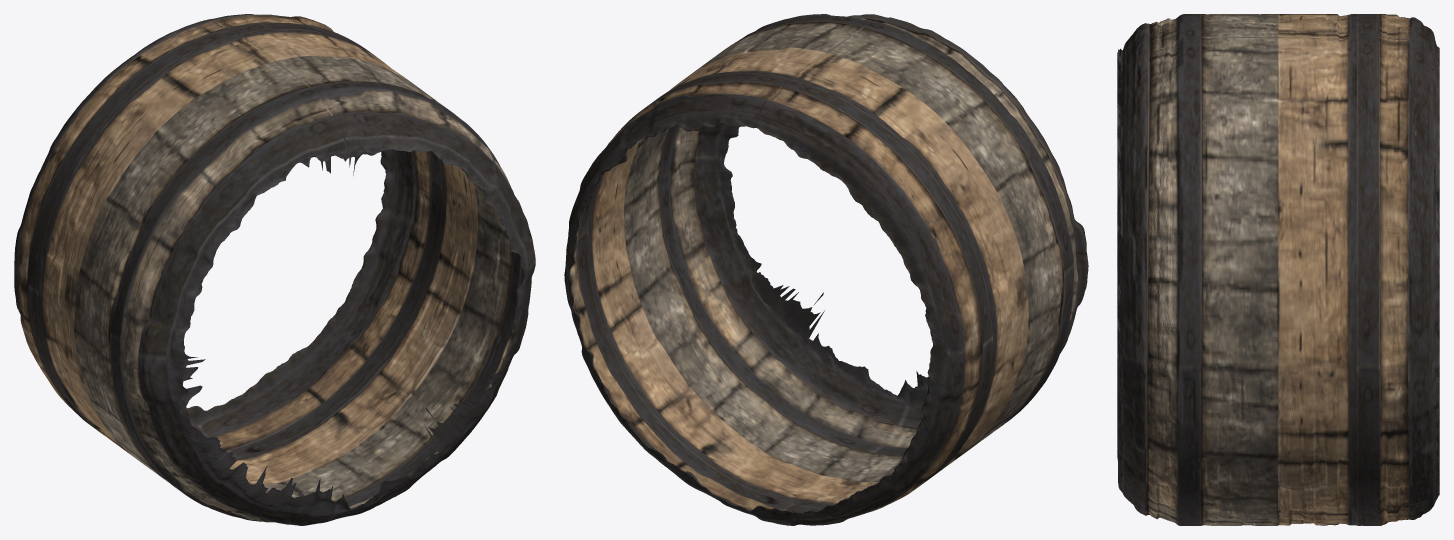
The picture shows the model from 3 angles, left to right: view 1: azimuth 30°, elevation 25°; view 2: azimuth 150°, elevation 25°; view 3: azimuth 270°, elevation 25°; orthographic projection. The views are drawn at different scales.
Parts seen in each view (by area): view 1: geometry_0; view 2: geometry_0; view 3: geometry_0.
Part boxes in pixels (x1,y1,x2,y2): geometry_0: (14, 14, 535, 525); geometry_0: (564, 14, 1088, 525); geometry_0: (1117, 14, 1439, 525).
Size of the model in its own units: 2 by 2 by 1.26.
Materials: 1 (1 with a texture image).
